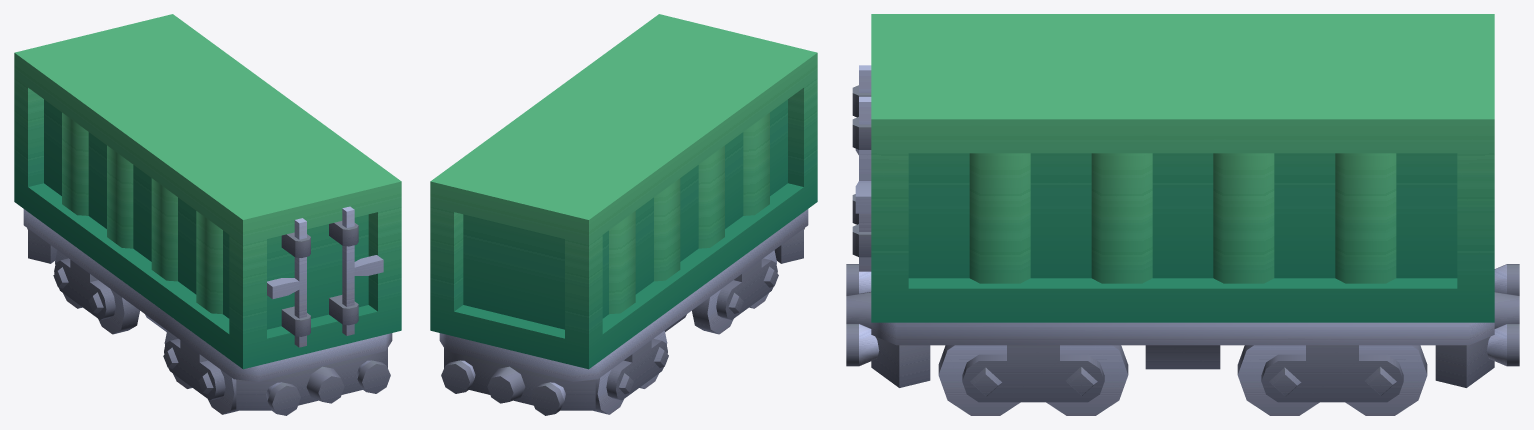
File: train-carriage-container-green.glb
3 renders of one model, left to right at view 1: azimuth 30°, elevation 25°; view 2: azimuth 150°, elevation 25°; view 3: azimuth 270°, elevation 25°, orthographic. The views are drawn at different scales.
Visible parts, largest first — view 1: cargo, train-carriage-container-green, wheels-back, wheels-front; view 2: cargo, train-carriage-container-green, wheels-front, wheels-back; view 3: cargo, train-carriage-container-green, wheels-front, wheels-back.
Boxes of the visible parts, x1,y1,x2,y2 form: cargo: (14,14,401,369); train-carriage-container-green: (23,209,392,415); wheels-back: (53,250,139,334); wheels-front: (163,331,238,414); cargo: (430,14,817,369); train-carriage-container-green: (439,209,808,415); wheels-front: (692,250,778,334); wheels-back: (593,331,668,414); cargo: (852,14,1494,322); train-carriage-container-green: (846,264,1519,387); wheels-front: (938,345,1128,415); wheels-back: (1237,345,1427,415).
Bounding box in the file's own units: 1 × 1.36 × 2.7.
1 material, 1 textured.
